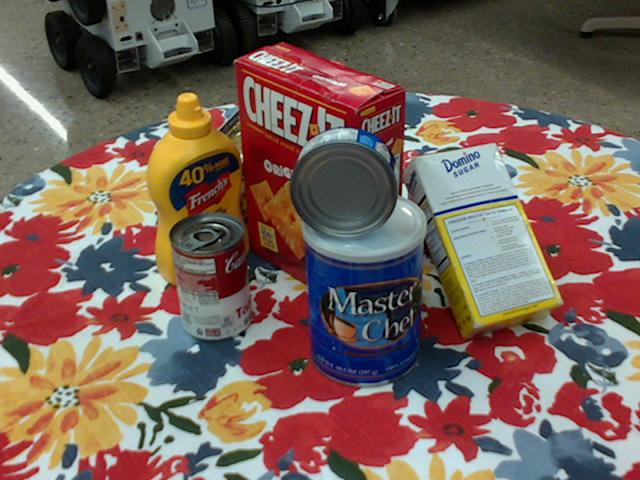cracker_box: (236, 43, 407, 310)
gelatin_box: (272, 130, 353, 206)
large_marker: (212, 87, 271, 145)
master_chef_can: (301, 191, 425, 390)
mug: (401, 152, 491, 257)
mustard_bottle: (145, 94, 247, 286)
potted_meat_can: (190, 130, 283, 235)
sugar_box: (402, 143, 565, 343)
tomato_soup_can: (168, 212, 250, 341)
tuna_fish_can: (290, 127, 399, 239)
